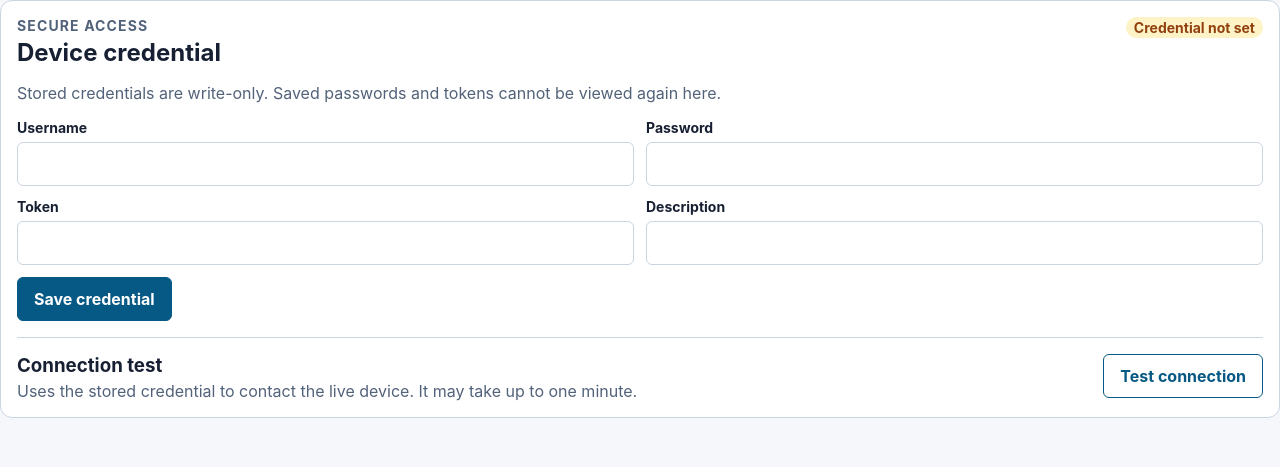
Test: CredentialPanel › requires a password or token before sending a credential
The width and height of the screenshot is (1280, 467).
Expected: the text "Credential not set" is shown, [1126,17,1263,38]
Click the button "Save credential" at {"x": 94, "y": 299}, box [17,277,172,321]
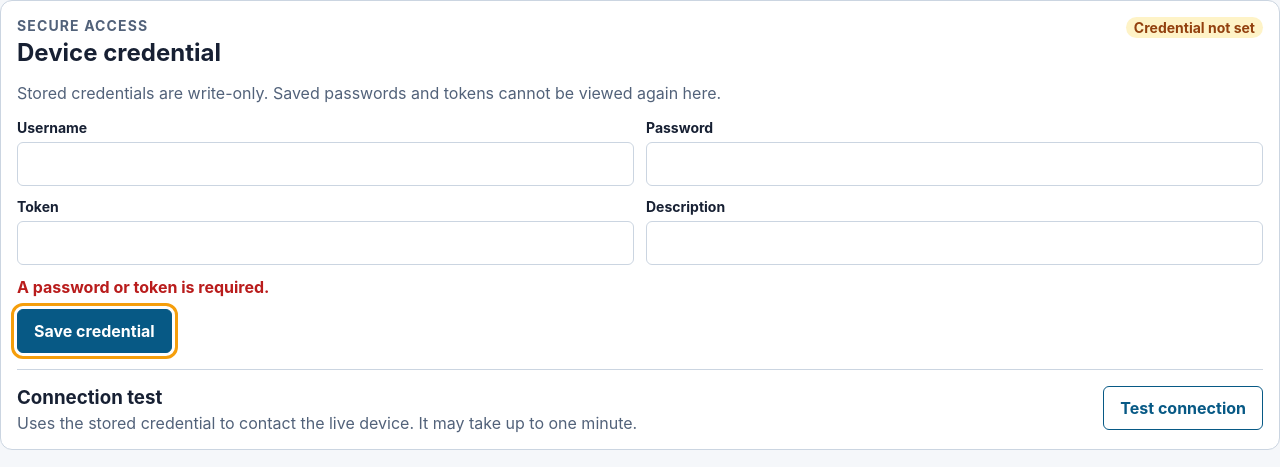
Now the message shows "password or token is required", box [17,277,269,297]
